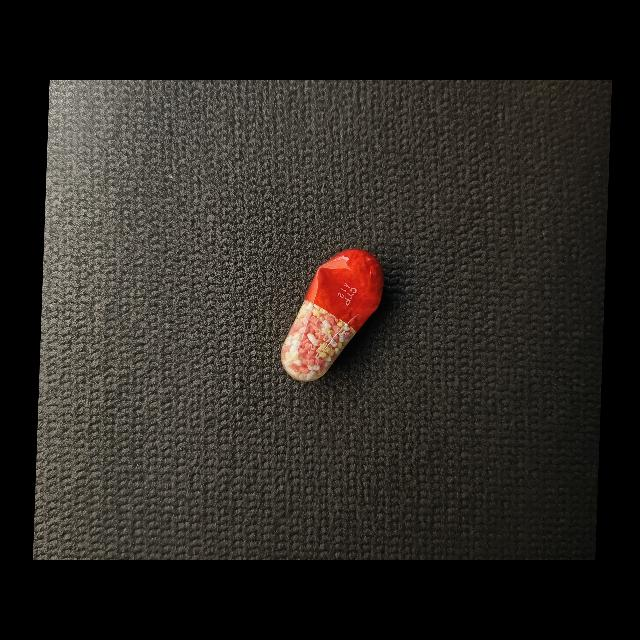Defective Capsule: (281, 249, 384, 382)
